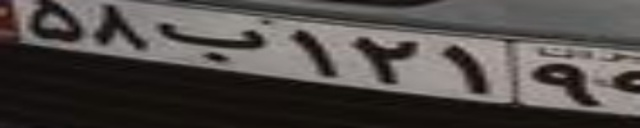1: (440, 44, 486, 94), (288, 29, 334, 77)
2: (352, 36, 419, 82)
5: (28, 0, 82, 43)
8: (91, 3, 146, 50)
9: (530, 61, 595, 106), (611, 68, 638, 112)
be: (157, 20, 266, 62)
